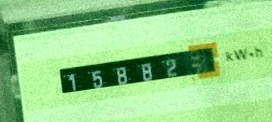1: (66, 71, 77, 90)
2: (164, 56, 178, 77)
5: (88, 68, 104, 88)
7: (188, 59, 202, 73)
8: (138, 59, 154, 81), (114, 63, 129, 85)
screen: (52, 39, 225, 101)
